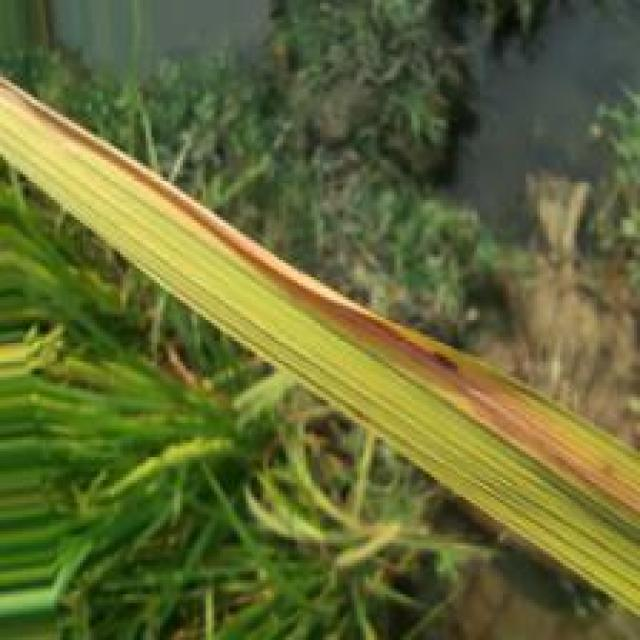Leaf_Blast: (204, 215, 637, 520)
